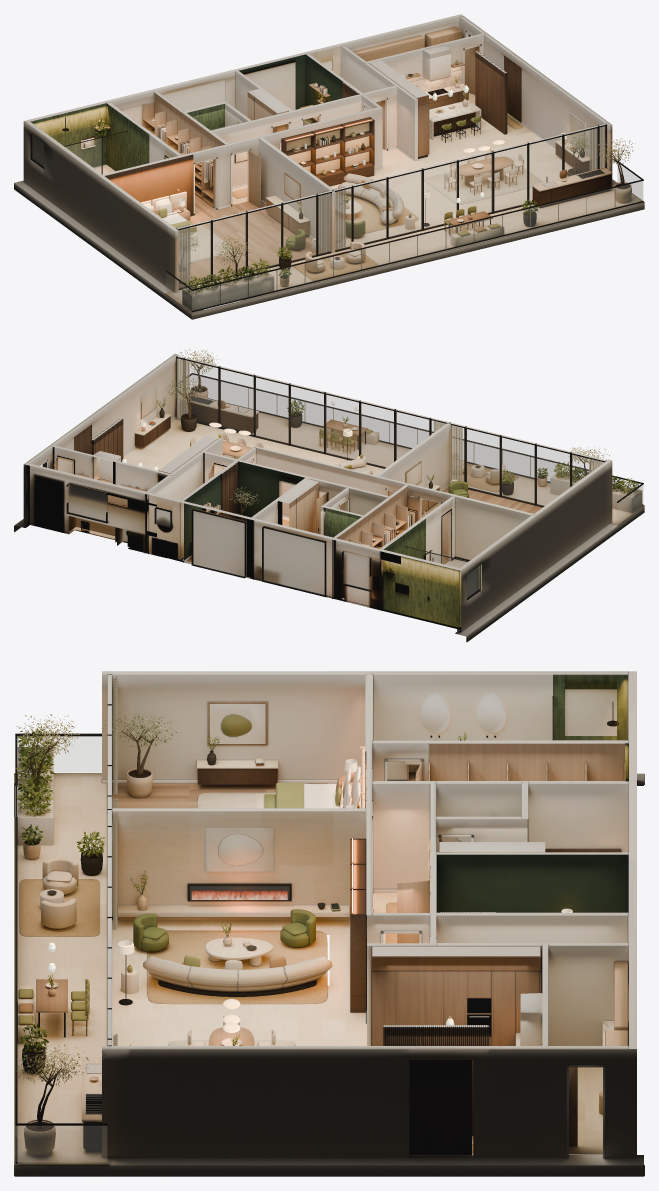
File: tipo-4096.glb
The picture shows the model from 3 angles, top to bottom: view 1: azimuth 30°, elevation 25°; view 2: azimuth 150°, elevation 25°; view 3: azimuth 270°, elevation 25°; orthographic projection. The views are drawn at different scales.
Visible parts, largest first — view 1: casco, itens, vidro, folhas.012, cortinas; view 2: casco, itens, vidro, folhas.012, cortinas; view 3: casco, itens, folhas.012, vidro, cortinas.
Part boxes in pixels (<box>): casco: <box>14,14,644,319</box>; itens: <box>30,26,643,312</box>; vidro: <box>32,124,643,310</box>; folhas.012: <box>95,76,632,293</box>; cortinas: <box>176,123,603,284</box>; casco: <box>14,354,644,642</box>; itens: <box>53,355,643,608</box>; vidro: <box>68,362,643,597</box>; folhas.012: <box>156,349,639,578</box>; cortinas: <box>176,358,602,481</box>; casco: <box>14,671,644,1176</box>; itens: <box>15,674,628,1163</box>; folhas.012: <box>14,712,466,1086</box>; vidro: <box>16,736,289,1161</box>; cortinas: <box>113,676,117,1045</box>.
Size of the model in its own units: 23.32 by 3.35 by 15.8.
Materials: 5 (2 with a texture image).
